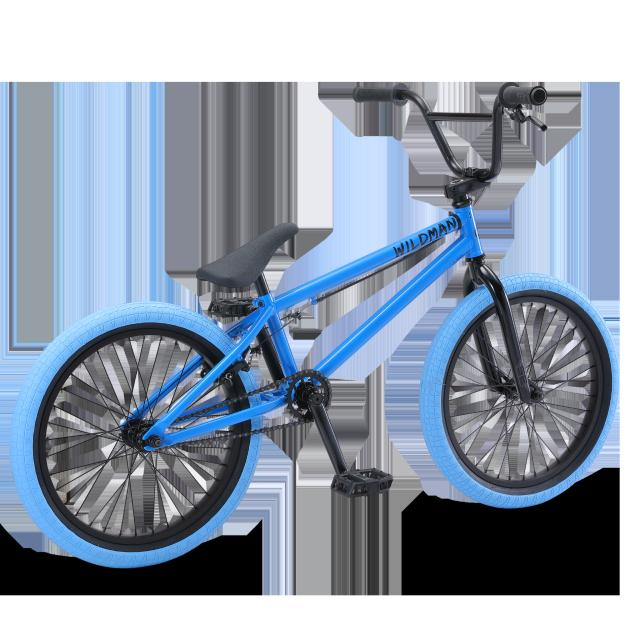bmx-bike: (13, 79, 622, 577)
